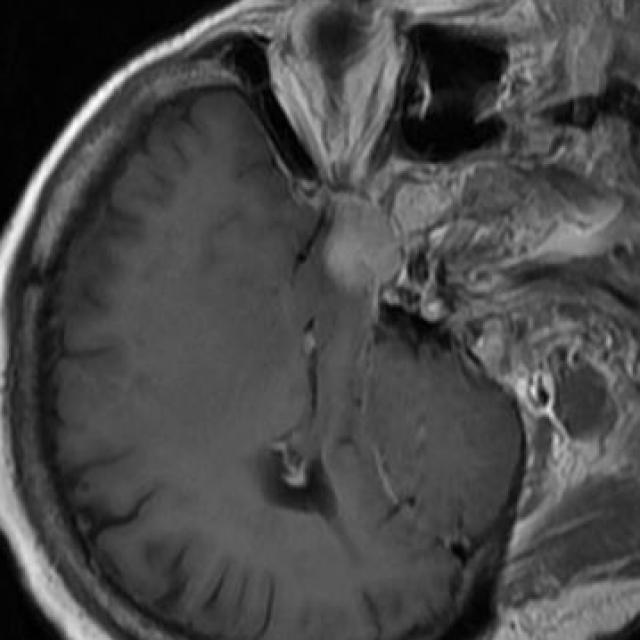meningioma: (326, 200, 401, 289)
